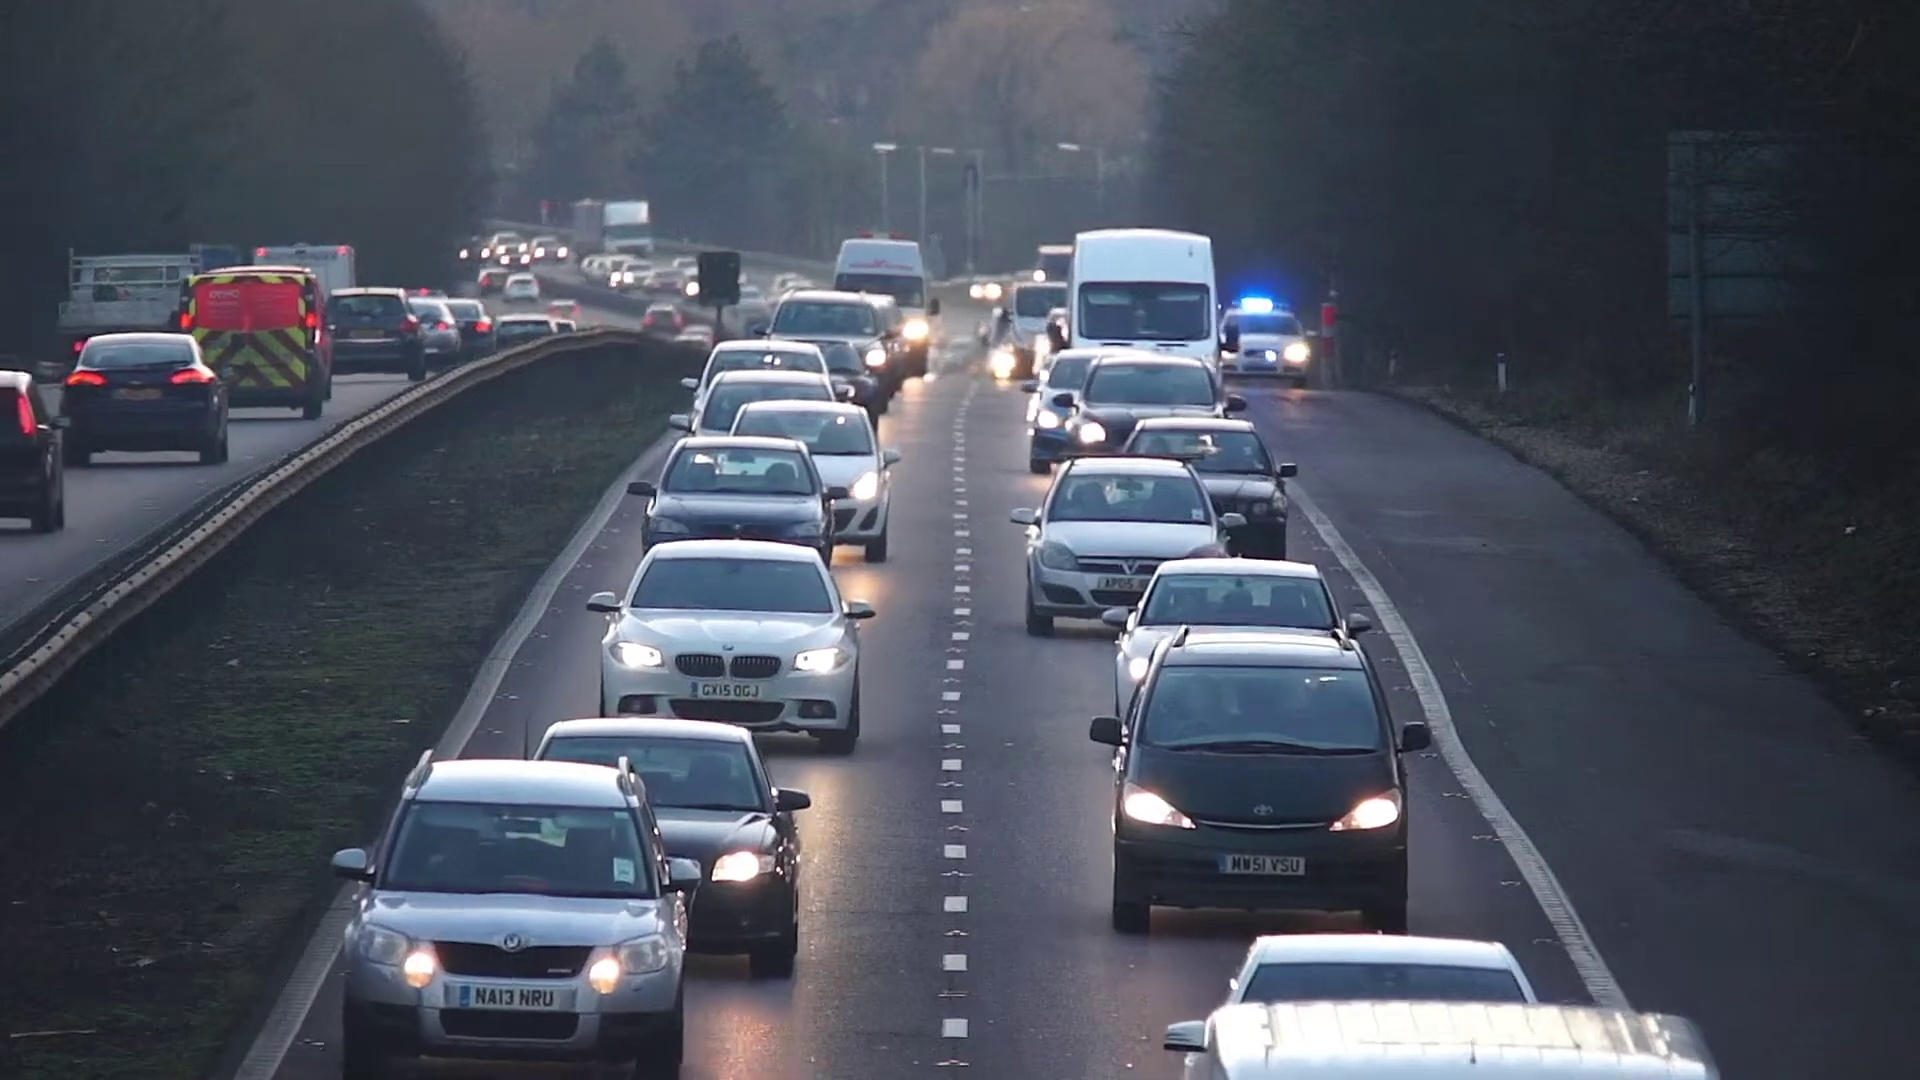license_plate: (461, 983, 559, 1008), (1220, 853, 1307, 878), (690, 677, 765, 703), (1098, 572, 1148, 595)
